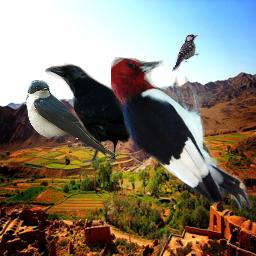Crow: (45, 63, 162, 169)
Swallow: (26, 80, 117, 158)
Woodpecker: (111, 57, 255, 211), (170, 32, 201, 73)
